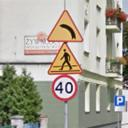speed_limit_40: (50, 74, 81, 102)
